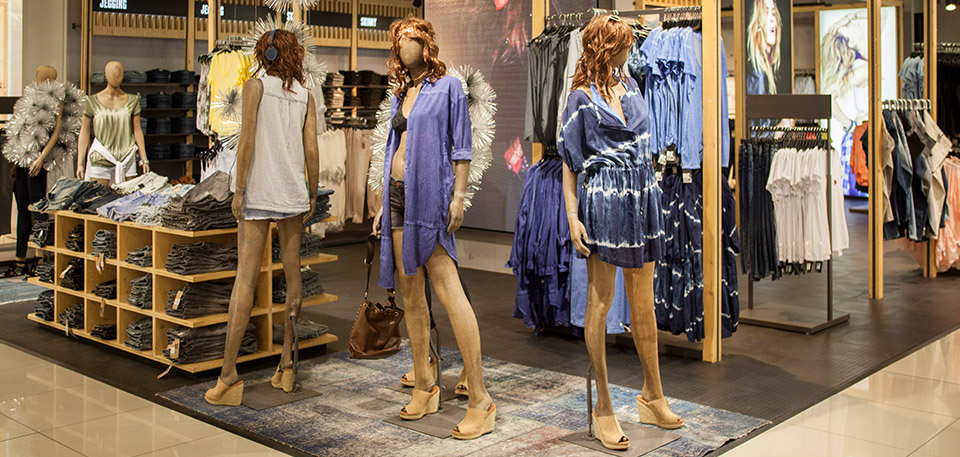person-like: (555, 9, 697, 454), (367, 9, 503, 443), (202, 24, 326, 411), (1, 60, 67, 276), (74, 56, 154, 182)
